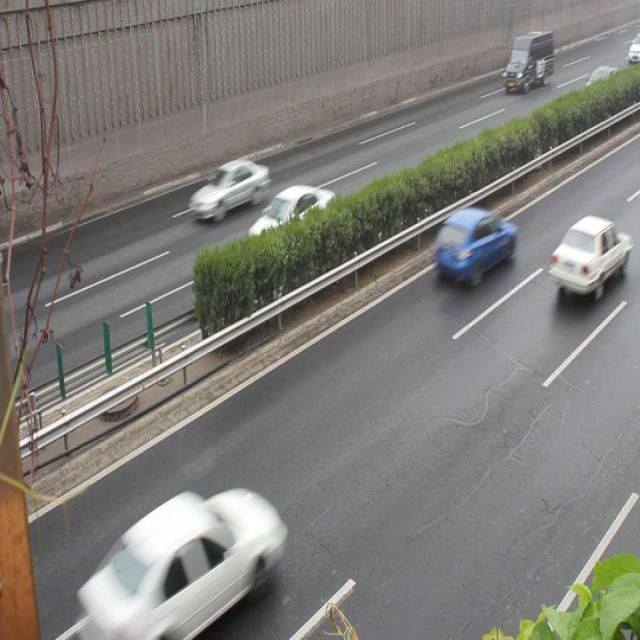car: (86, 489, 282, 626), (432, 208, 516, 286), (245, 185, 337, 255), (548, 216, 627, 295), (188, 158, 268, 224)
truck: (501, 30, 554, 92)
